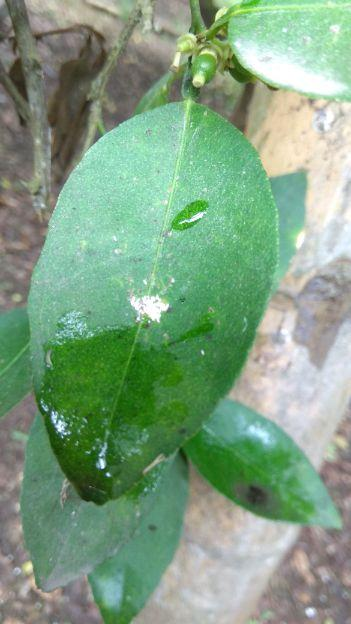Myzus persicae: (132, 294, 173, 325)
